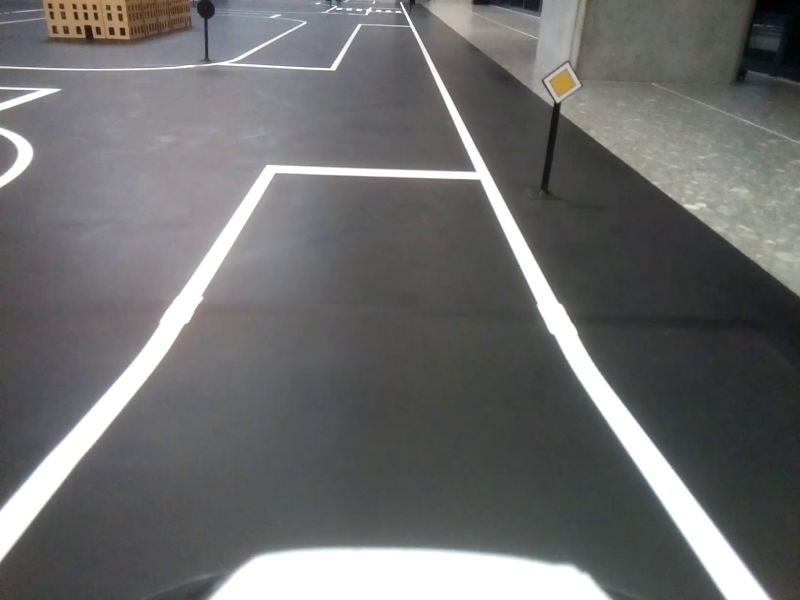priority: (541, 54, 588, 107)
